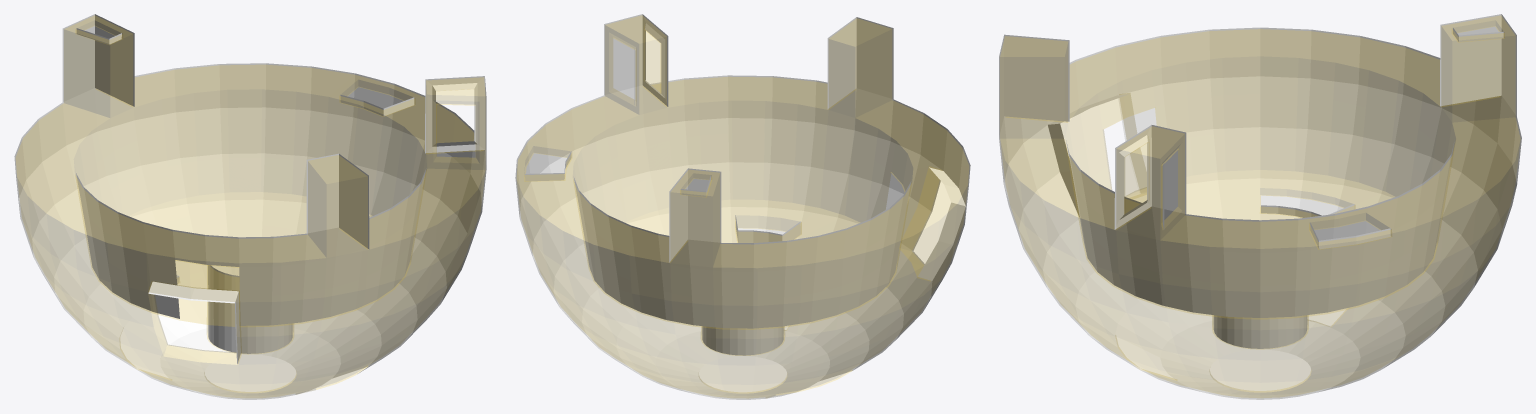
The model's file is glass-glass-double.glb.
3 renders of one model, left to right at view 1: azimuth 30°, elevation 25°; view 2: azimuth 150°, elevation 25°; view 3: azimuth 270°, elevation 25°, orthographic. The views are drawn at different scales.
Parts seen in each view (by area): view 1: Sphere; view 2: Sphere; view 3: Sphere.
Boxes of the visible parts, left/top/right/bottom form: Sphere: left=14, top=14, right=486, bottom=399; Sphere: left=515, top=14, right=970, bottom=399; Sphere: left=999, top=14, right=1521, bottom=399.
Size of the model in its own units: 9.25 by 6.14 by 9.25.
